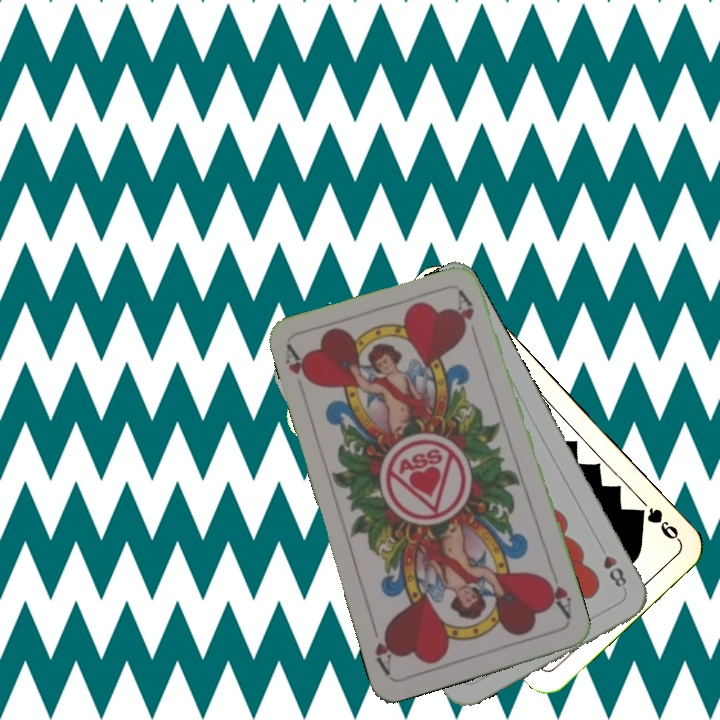G9: (630, 503, 683, 544)
H8: (594, 539, 630, 590)
HA: (539, 566, 574, 622), (281, 341, 316, 387)
